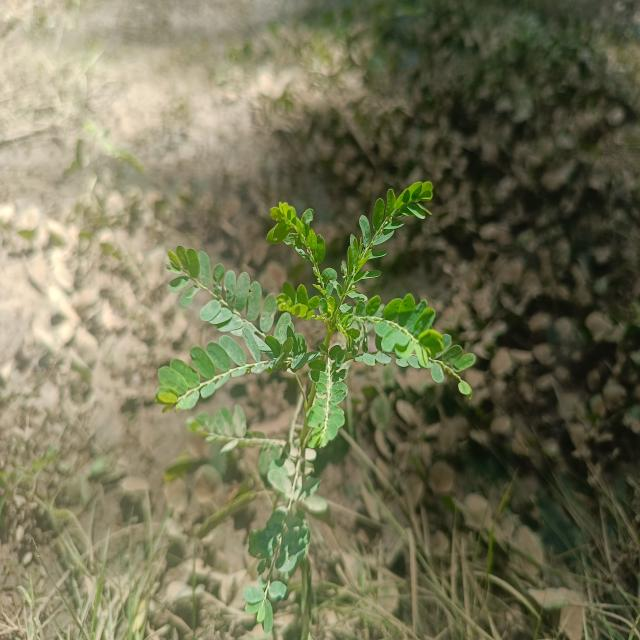weed: (154, 168, 495, 483), (183, 404, 323, 633)
